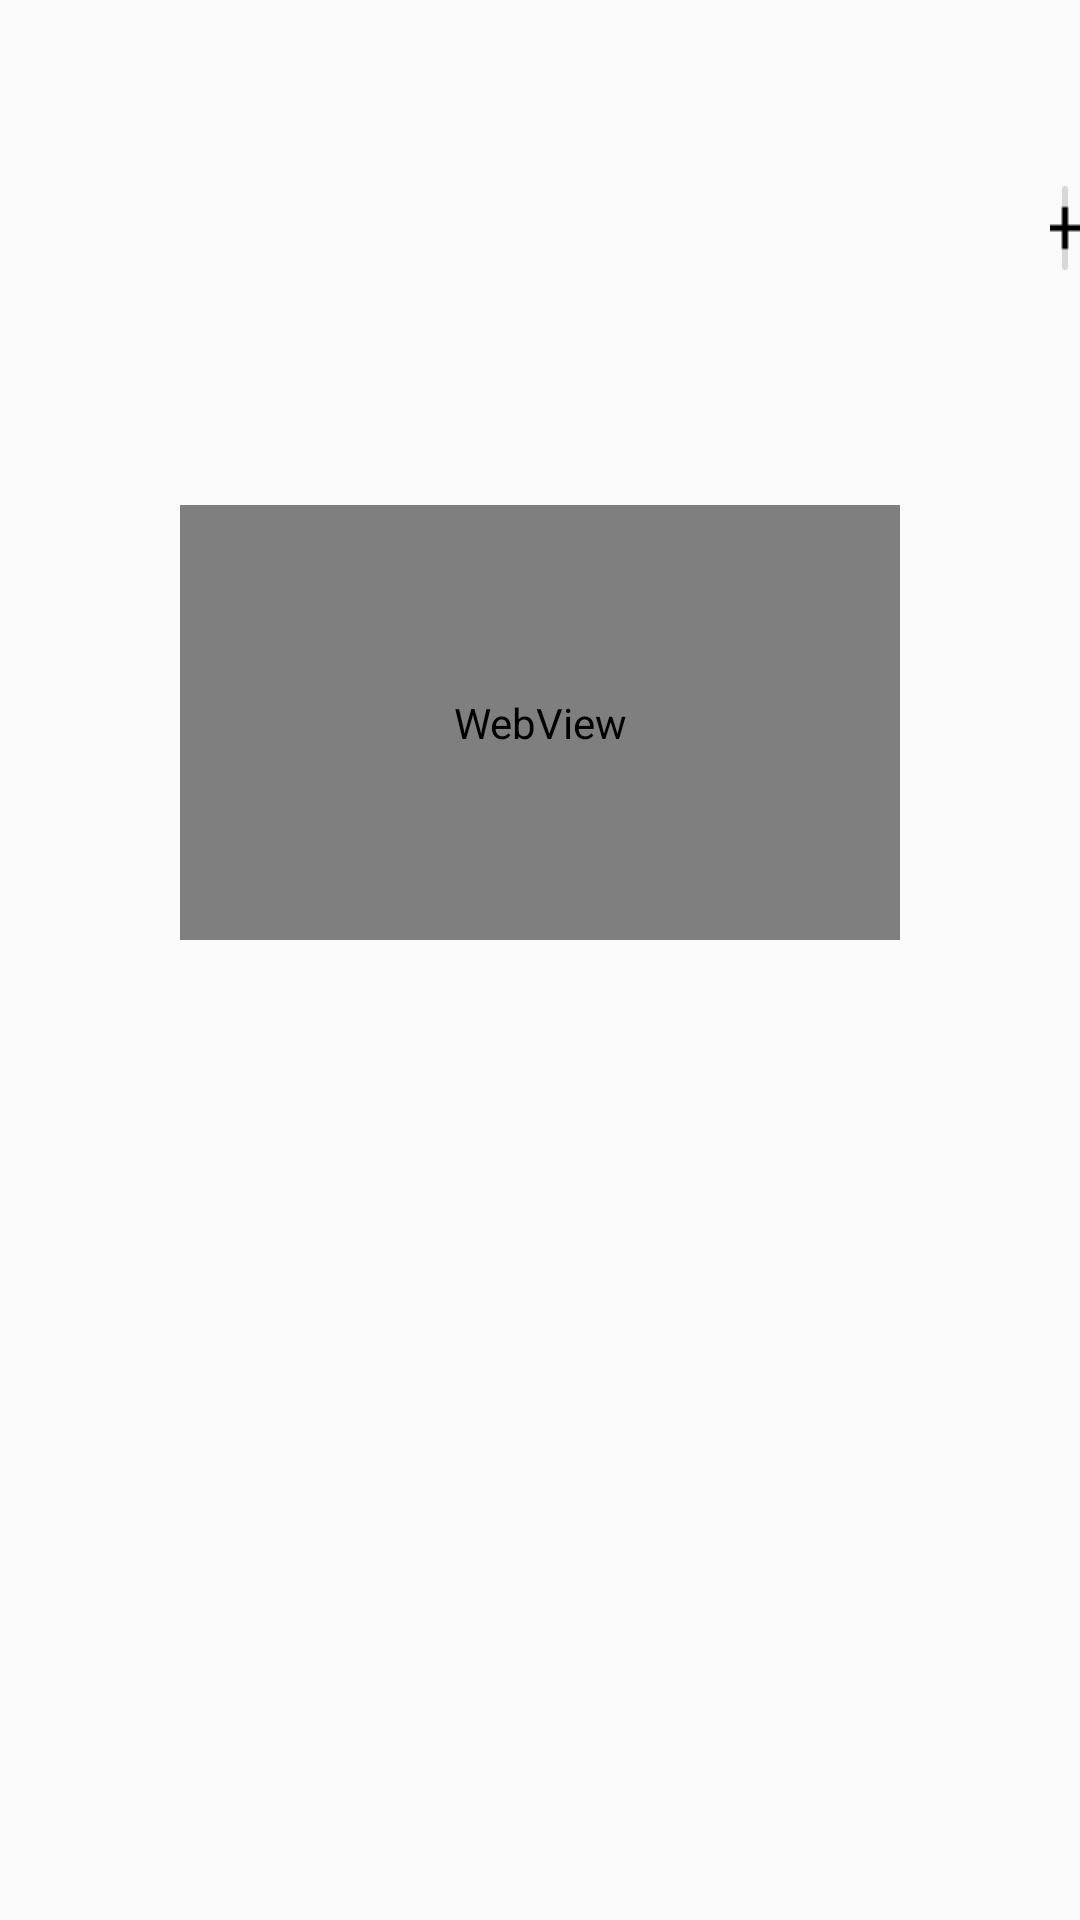

Screen size 1080*1920. Icon name, then its box in pixels as (x1, y1, x2, y2):
plus: (1050, 186, 1080, 270)
